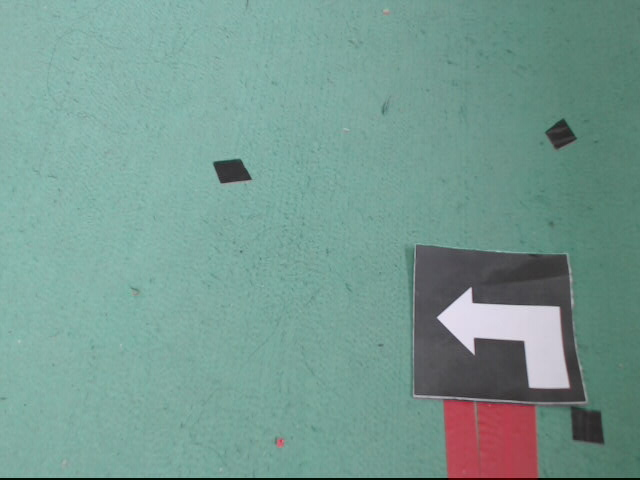left: (411, 240, 595, 406)
